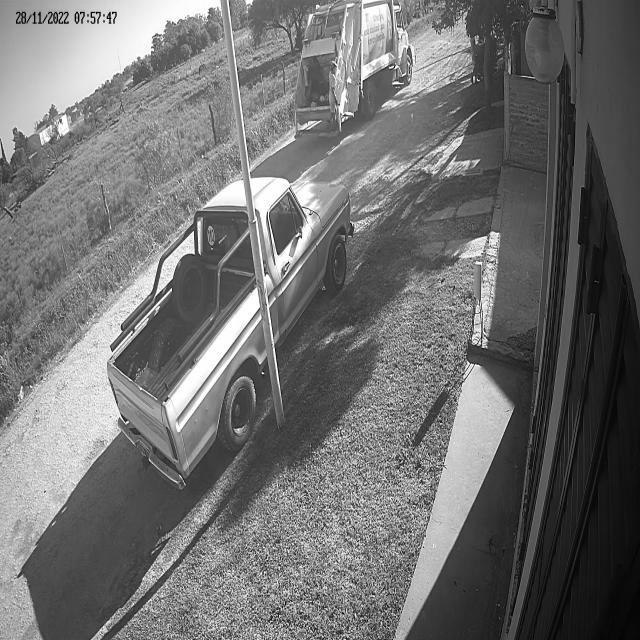Garbage Truck: (295, 0, 415, 138)
Pickup: (107, 179, 352, 492)
